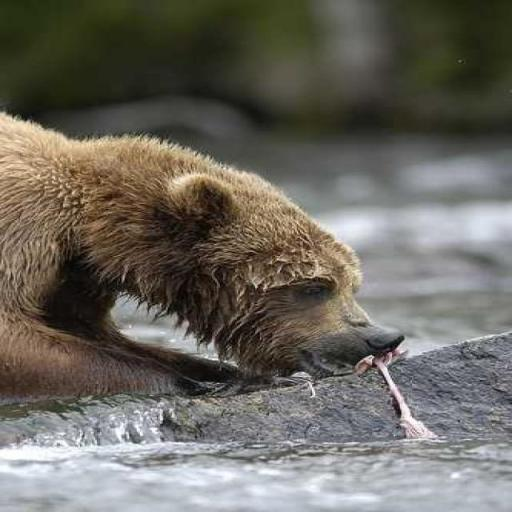Bear: (0, 105, 437, 440)
